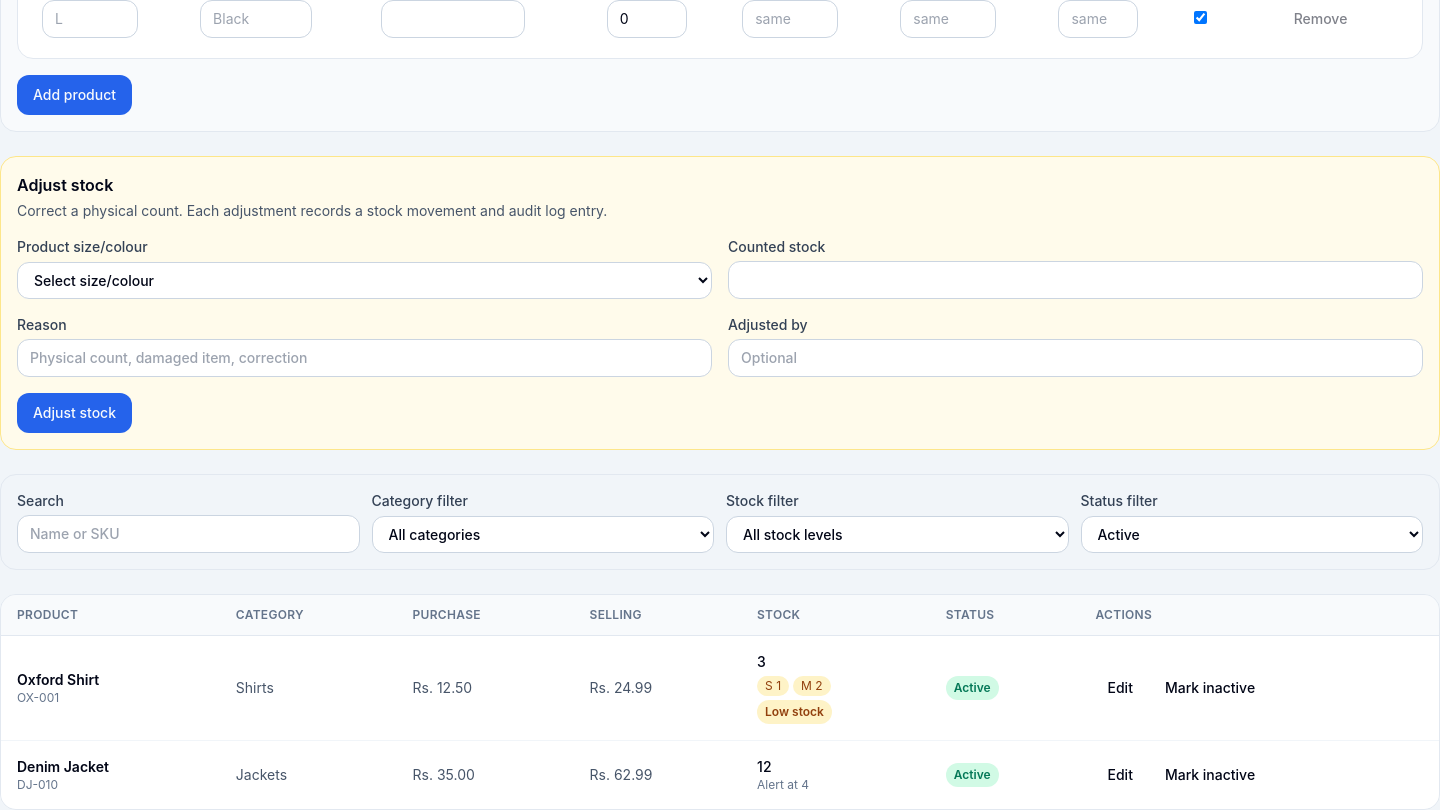
Scenario: ProductsScreen › opens a product for editing when its row is clicked
The image size is (1440, 810).
(page scrolled)
Expected: the text "Oxford Shirt" is shown, [17,671,99,688]
Click the text "Oxford Shirt" at (720, 688), box [1,636,1439,740]
(page scrolled)
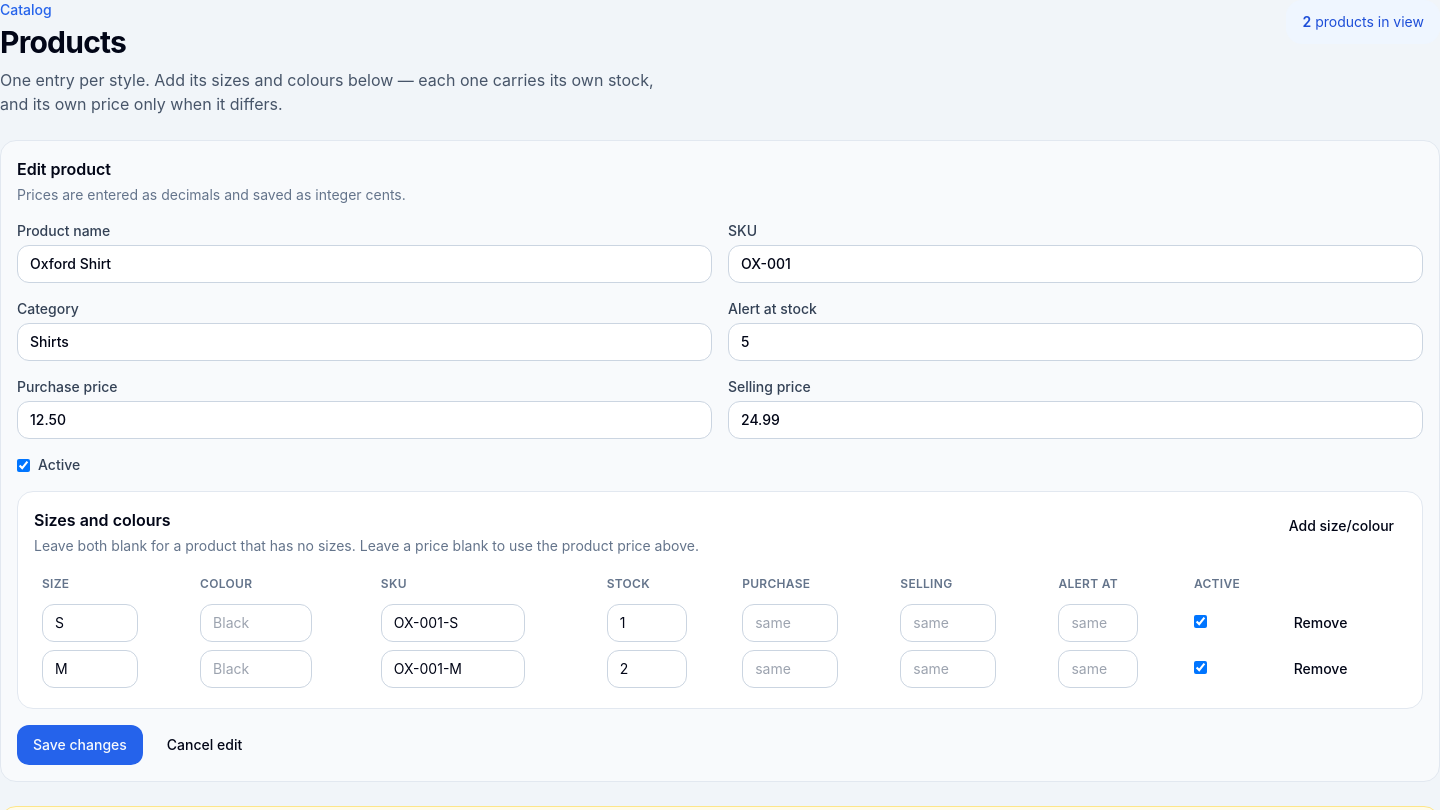
Expected: the heading "Edit product" is shown, [17,159,111,179]
Expected: the field labelled "Product name" holds "Oxford Shirt", [17,245,712,283]
